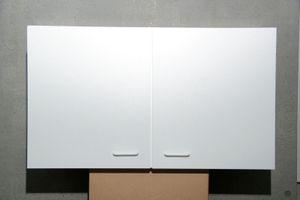cabinet_door: (27, 26, 151, 168), (150, 28, 275, 167)
handle: (111, 150, 143, 160), (160, 151, 193, 160)
